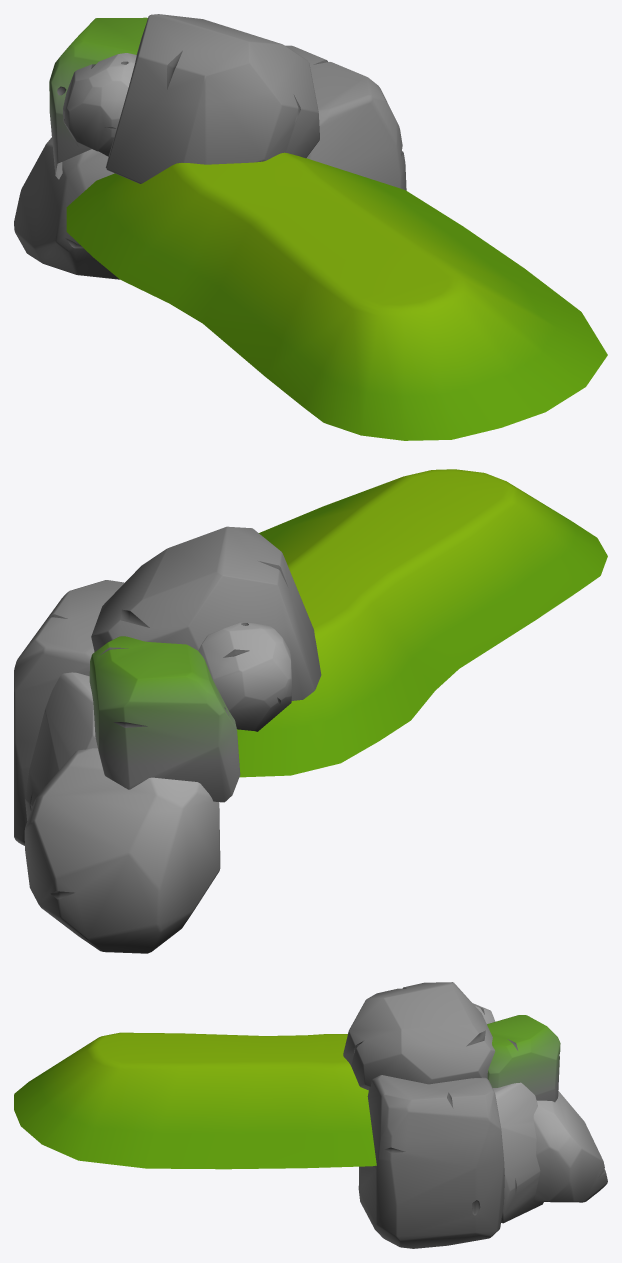
Rendered from RiverFall02Bank01.fbx.
3 views of the same model, one above another, from view 1: azimuth 30°, elevation 25°; view 2: azimuth 150°, elevation 25°; view 3: azimuth 270°, elevation 25° (orthographic). The views are drawn at different scales.
Parts seen in each view (by area): view 1: LOD0; view 2: LOD0; view 3: LOD0.
Part boxes in pixels (<box>): LOD0: <box>14,14,607,440</box>; LOD0: <box>14,469,607,953</box>; LOD0: <box>14,982,607,1248</box>.
Size of what is drawn, in the model's own units: 455 by 1071 by 409.
